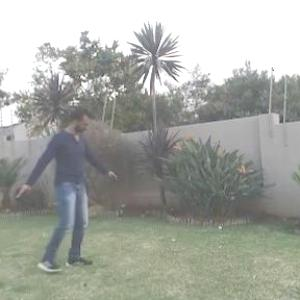land: (11, 100, 123, 282)
